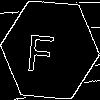F: (25, 25, 56, 74)
